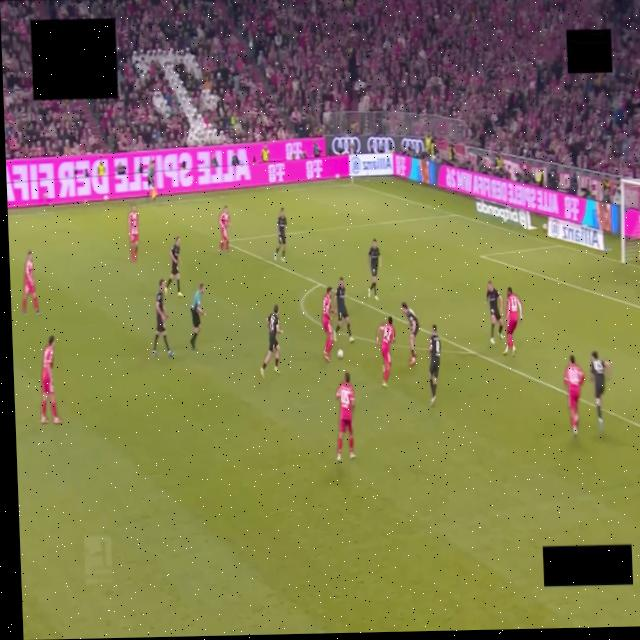ball: (337, 350, 342, 359)
player: (40, 335, 61, 423), (336, 373, 354, 463), (590, 351, 610, 431), (260, 305, 282, 377), (563, 356, 583, 435), (152, 280, 172, 357), (427, 324, 443, 407), (502, 287, 521, 356), (376, 317, 394, 387), (334, 278, 353, 343), (164, 236, 182, 297), (402, 302, 419, 365), (22, 252, 39, 314), (485, 281, 502, 343), (322, 287, 333, 361), (367, 239, 380, 300), (274, 209, 286, 262), (218, 205, 230, 253), (128, 206, 138, 260), (638, 251, 639, 269)
referee: (190, 284, 204, 350)
